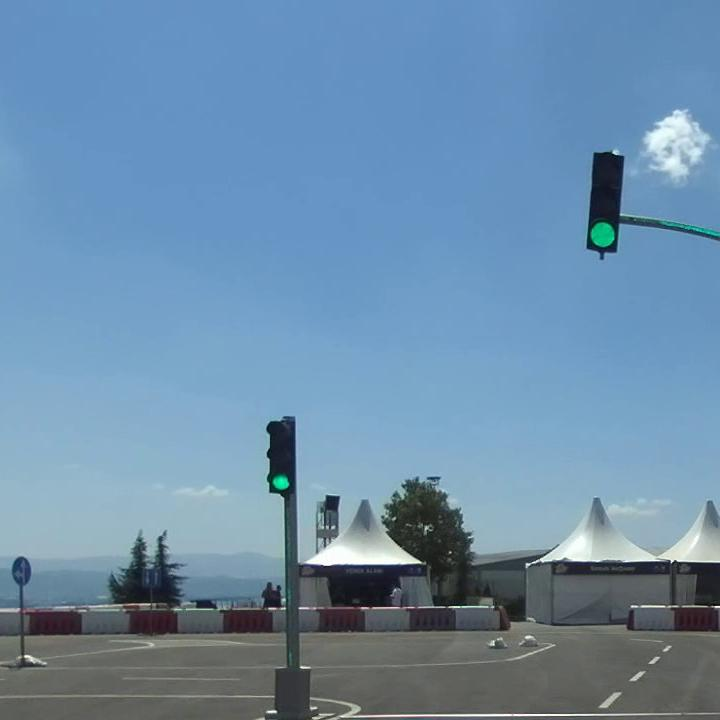green: (582, 145, 621, 252), (268, 415, 300, 501)
